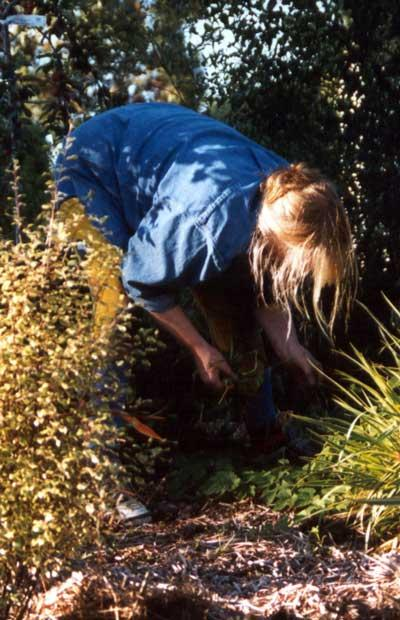person: (55, 97, 354, 388)
